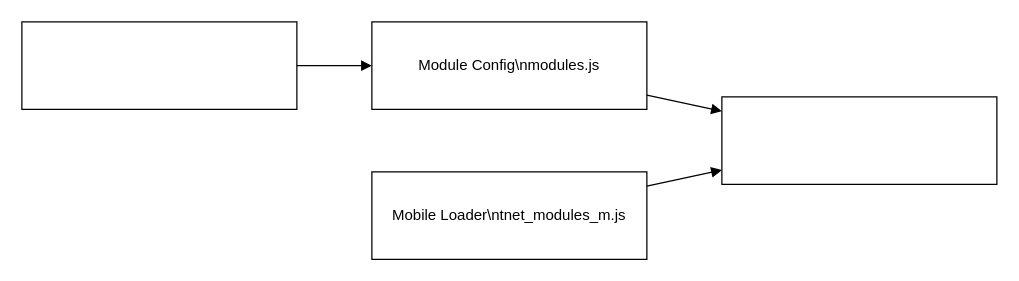
Some shapes in this 1019 by 281 pixel diagram are drawn without their labels. The shapes that lost their labels are listed below. From the top down, each one's box as (x1, y1, x2, y2) in pixels, then its label:
(21, 21, 297, 109): Desktop/Mobile Entry\nindex_de.htm / index_de_m.htm
(721, 96, 997, 184): Runtime Start\ntnet-app.js
